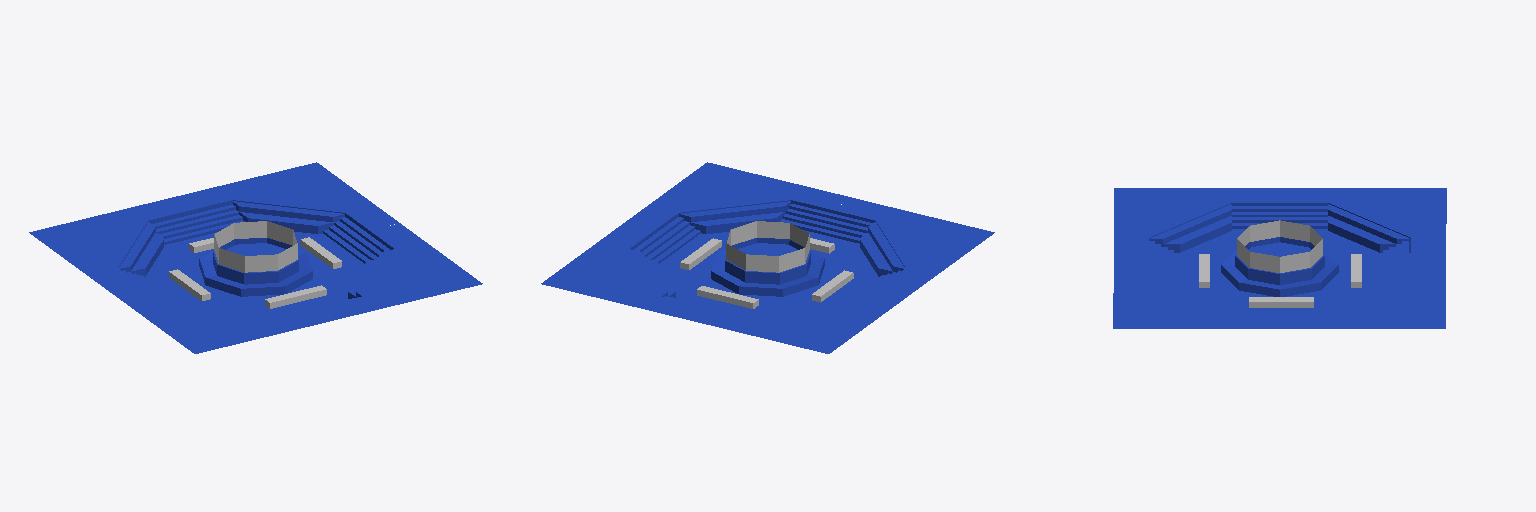
Rendered from haven_center2.obj.
3 renders of one model, left to right at view 1: azimuth 30°, elevation 25°; view 2: azimuth 150°, elevation 25°; view 3: azimuth 270°, elevation 25°, orthographic.
Visible parts, largest first — view 1: Geo_Center, Bonfire, Stair3, Stair4, Seat4, Seat, Seat2; view 2: Geo_Center, Bonfire, Stair, Stair4, Seat3, Seat, Seat2; view 3: Geo_Center, Bonfire, Stair2, Stair3, Stair, Seat.
Part boxes in pixels (bbox=[...]): Geo_Center: bbox=[29, 162, 482, 353]; Bonfire: bbox=[199, 221, 312, 296]; Stair3: bbox=[153, 205, 244, 244]; Stair4: bbox=[323, 217, 389, 263]; Seat4: bbox=[265, 285, 326, 308]; Seat: bbox=[300, 237, 341, 268]; Seat2: bbox=[169, 269, 210, 300]; Geo_Center: bbox=[541, 162, 994, 353]; Bonfire: bbox=[711, 221, 824, 296]; Stair: bbox=[780, 204, 872, 243]; Stair4: bbox=[634, 217, 700, 263]; Seat3: bbox=[697, 286, 758, 308]; Seat: bbox=[680, 238, 721, 269]; Seat2: bbox=[812, 270, 853, 302]; Geo_Center: bbox=[1113, 188, 1446, 328]; Bonfire: bbox=[1221, 220, 1338, 296]; Stair2: bbox=[1232, 206, 1327, 228]; Stair3: bbox=[1383, 241, 1408, 284]; Stair: bbox=[1149, 241, 1173, 283]; Seat: bbox=[1249, 297, 1313, 307].
Size of the model in its own units: 24.02 by 2.77 by 24.02.